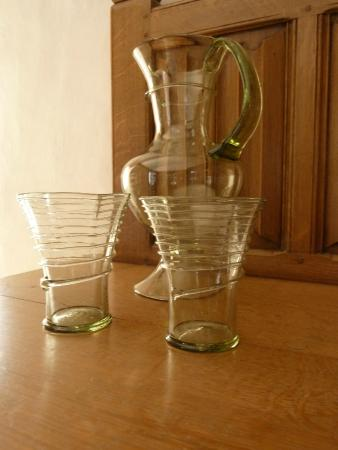Nonrec_Glass: (121, 21, 265, 305), (140, 185, 278, 374), (10, 174, 128, 356)
